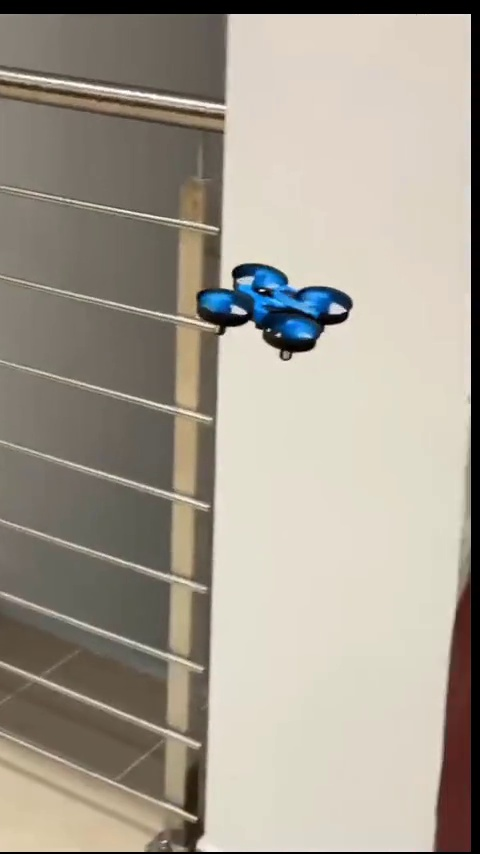drone: (197, 265, 355, 363)
